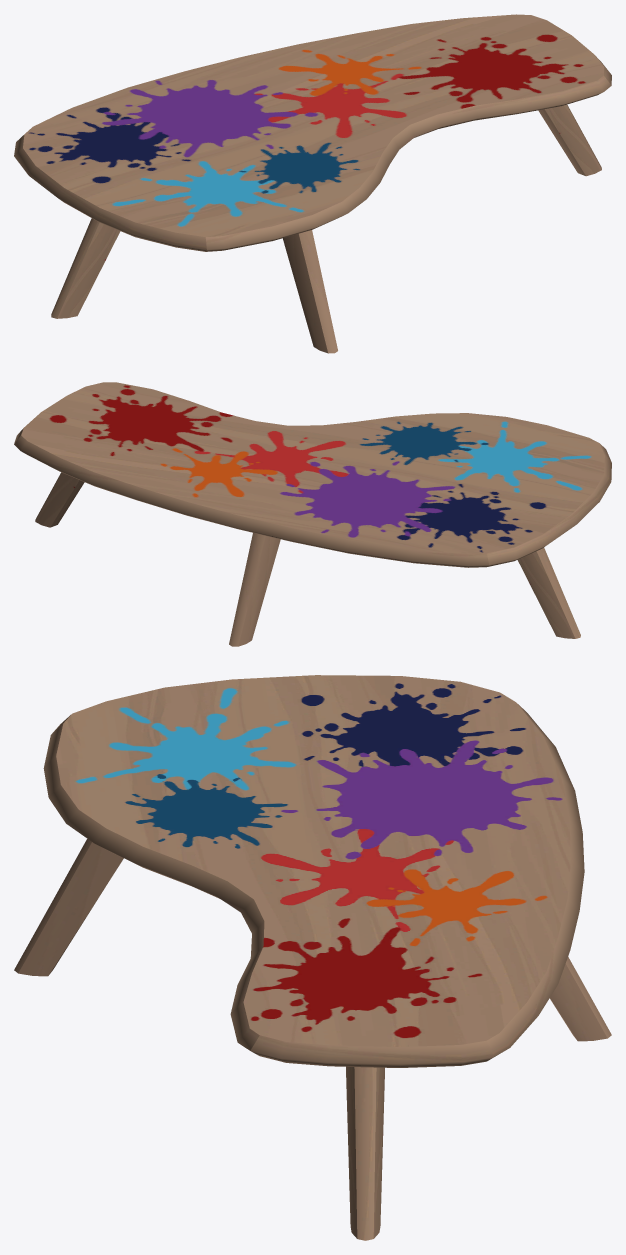
The model's file is table arty.glb.
3 renders of one model, top to bottom at view 1: azimuth 30°, elevation 25°; view 2: azimuth 150°, elevation 25°; view 3: azimuth 270°, elevation 25°, orthographic. The views are drawn at different scales.
Visible parts, largest first — view 1: Table_Coffee_Curvy; view 2: Table_Coffee_Curvy; view 3: Table_Coffee_Curvy.
Part boxes in pixels (x1=…): Table_Coffee_Curvy: x1=14, y1=14, x2=611, y2=353; Table_Coffee_Curvy: x1=14, y1=382, x2=611, y2=646; Table_Coffee_Curvy: x1=14, y1=675, x2=611, y2=1240.
Size of the model in its own units: 2.06 by 0.4445 by 1.33.
1 material, 1 textured.
